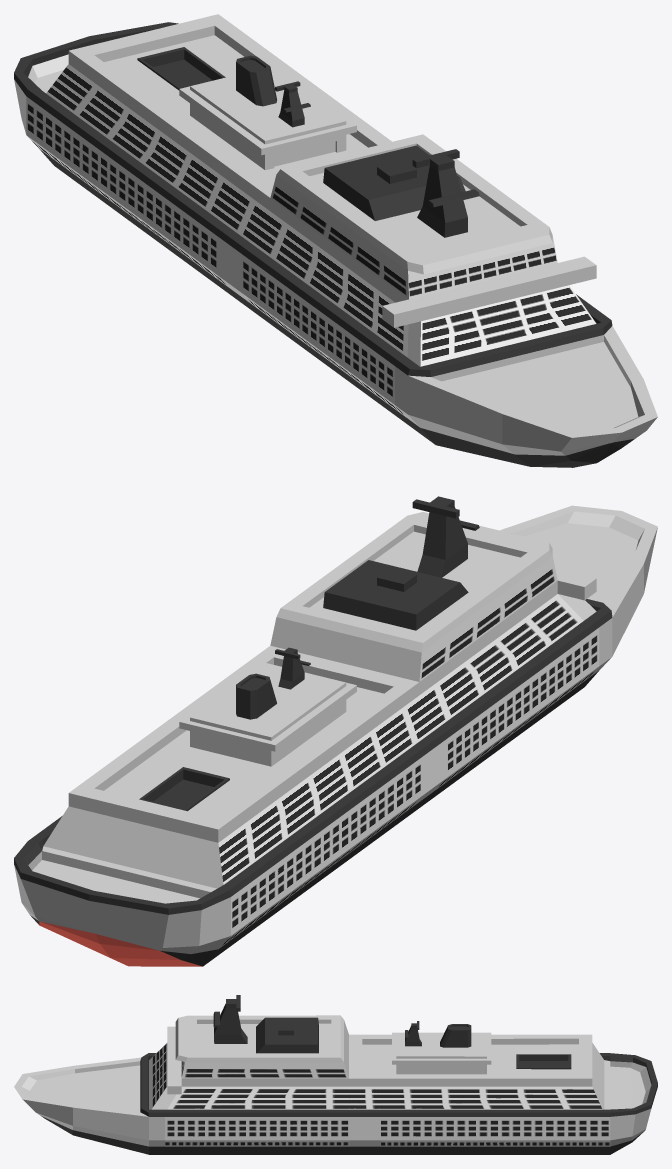
Rendered from 1781288939465_cruise.glb.
3 renders of one model, top to bottom at view 1: azimuth 30°, elevation 25°; view 2: azimuth 150°, elevation 25°; view 3: azimuth 270°, elevation 25°, orthographic. The views are drawn at different scales.
Visible parts, largest first — view 1: Cube, Cube_1, Cube_3; view 2: Cube, Cube_1, Cube_3, Cube_2; view 3: Cube, Cube_1, Cube_3.
Boxes of the visible parts, bbox=[...] form: Cube: bbox=[14, 14, 657, 455]; Cube_1: bbox=[26, 64, 596, 417]; Cube_3: bbox=[14, 22, 634, 467]; Cube: bbox=[14, 505, 657, 954]; Cube_1: bbox=[218, 556, 599, 948]; Cube_3: bbox=[14, 496, 612, 966]; Cube_2: bbox=[39, 921, 202, 966]; Cube: bbox=[14, 1015, 651, 1146]; Cube_1: bbox=[149, 1043, 610, 1146]; Cube_3: bbox=[41, 995, 657, 1154].
Size of the model in its own units: 4.8 by 5.28 by 21.66.
Materials: 4 (1 with a texture image).
